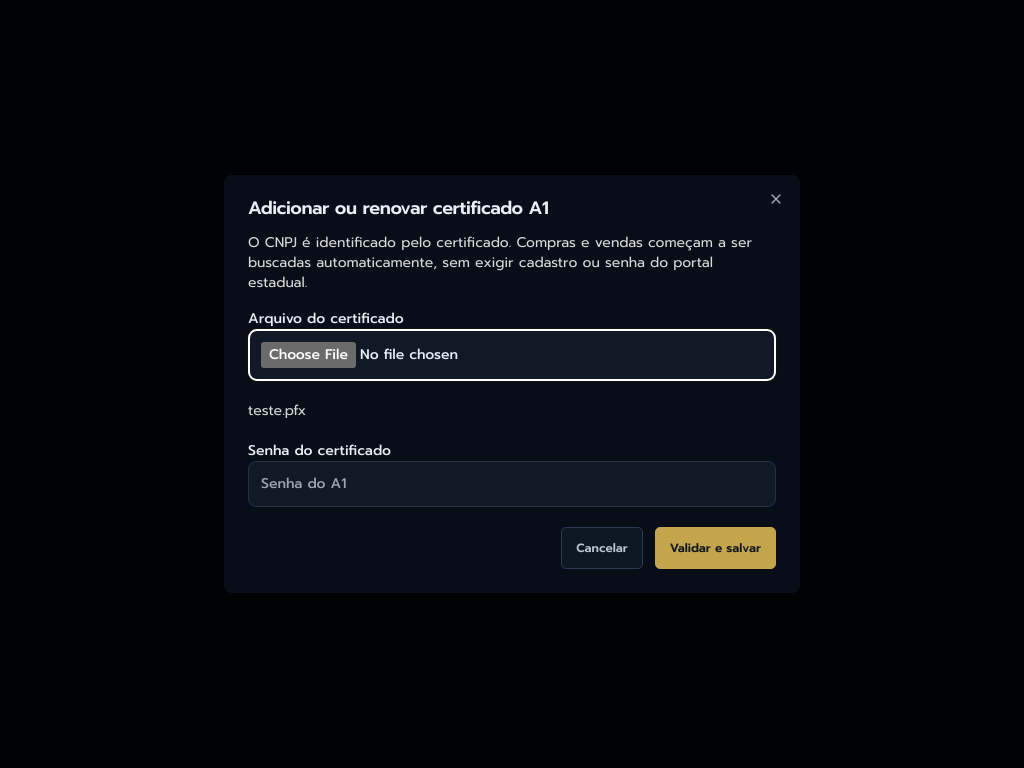
Test: extrator: importação e conta › bloqueia duplicidade e fechamento durante o salvamento
The image size is (1024, 768).
Earlier steps of the test are not shown.
Type "pass" into the password field labelled "Senha do certificado" at (512, 484), box [248,461,776,507]
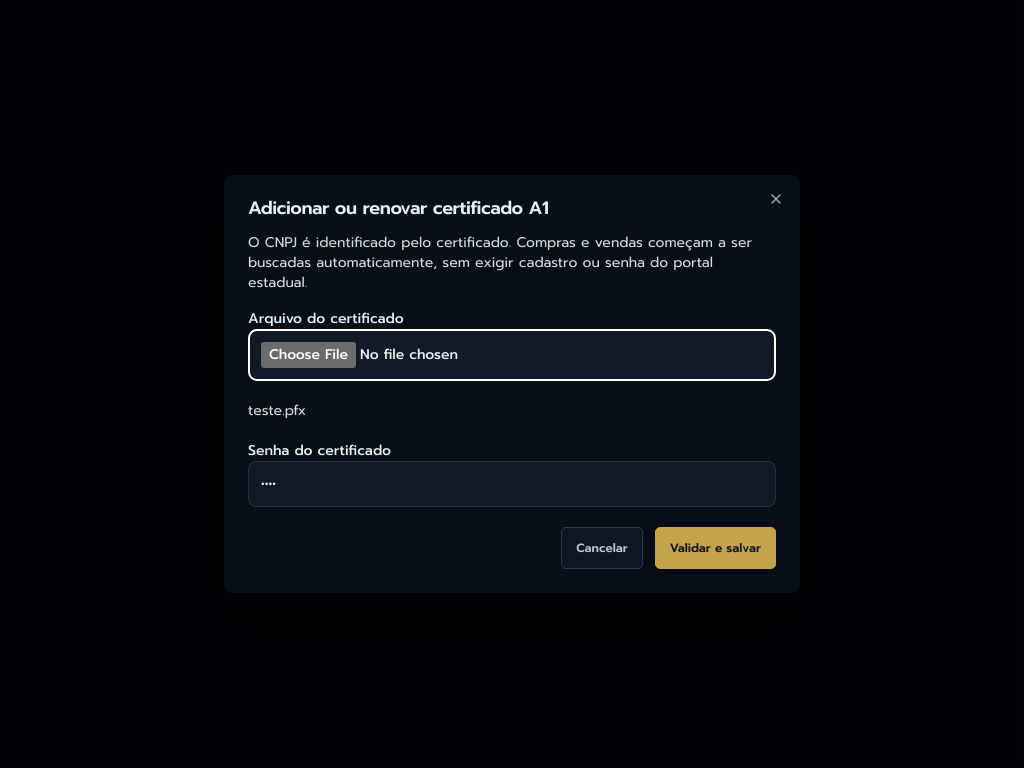
Click the button "Validar e salvar" at (715, 548), box [655,527,776,569]
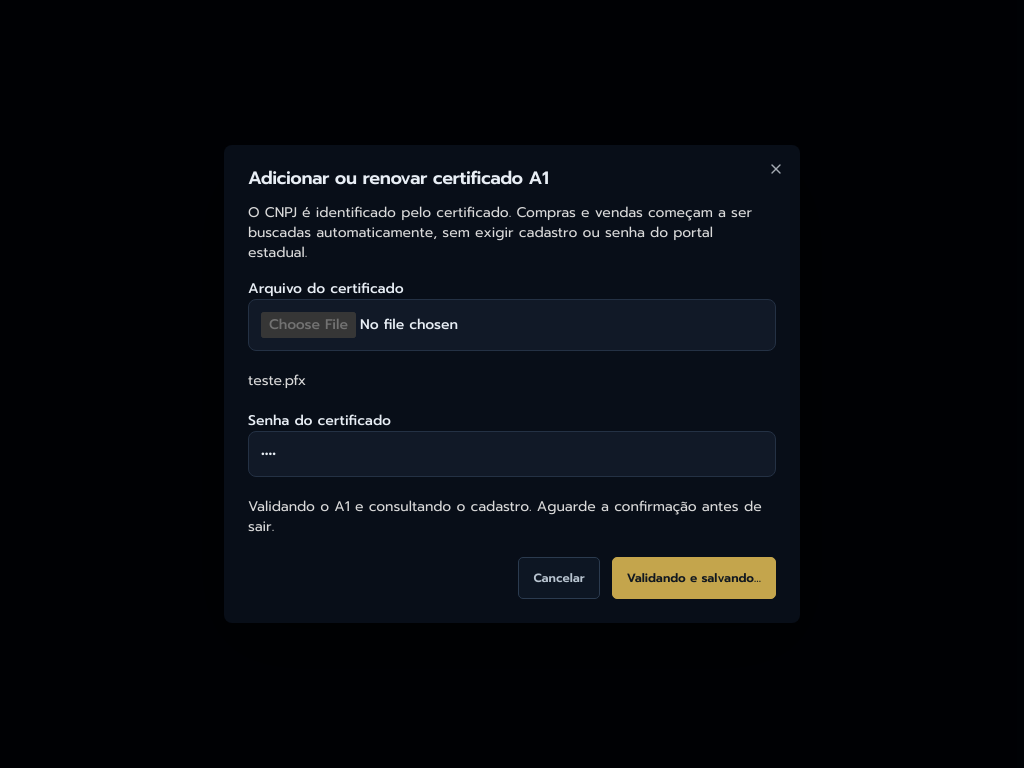
expect the button "Cancelar" is disabled: met, box [518,557,600,599]
Click the button named "Close" at (776, 169), box [768,161,784,177]
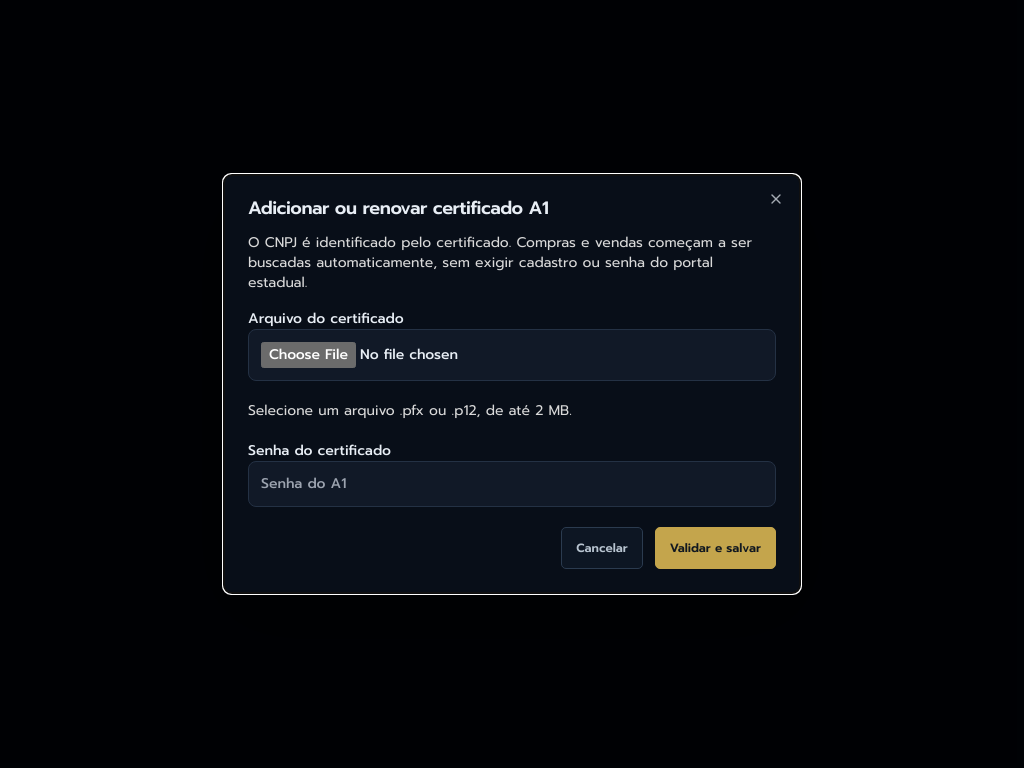
expect the button "Validar e salvar" is enabled: met, box [655,527,776,569]
